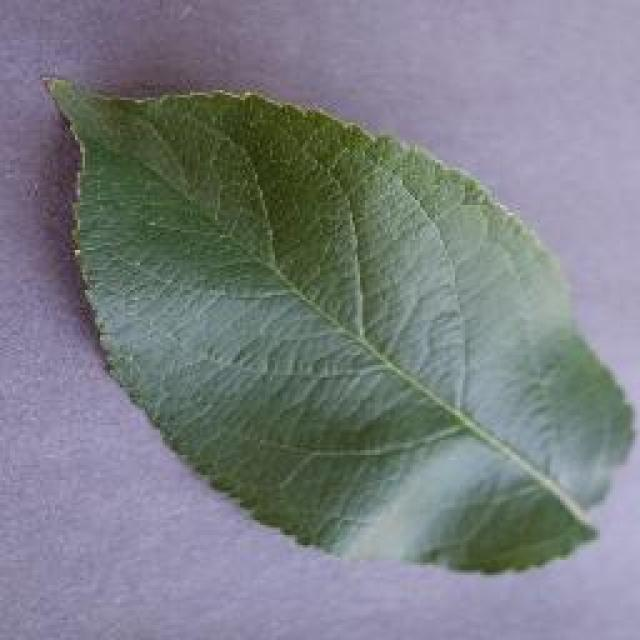apple healthy: (38, 70, 638, 575)
